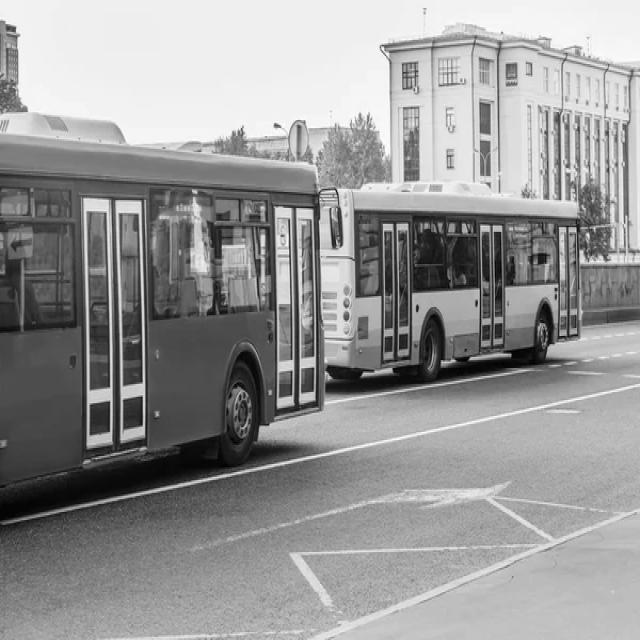Bus: (0, 115, 325, 485), (321, 189, 582, 381)
